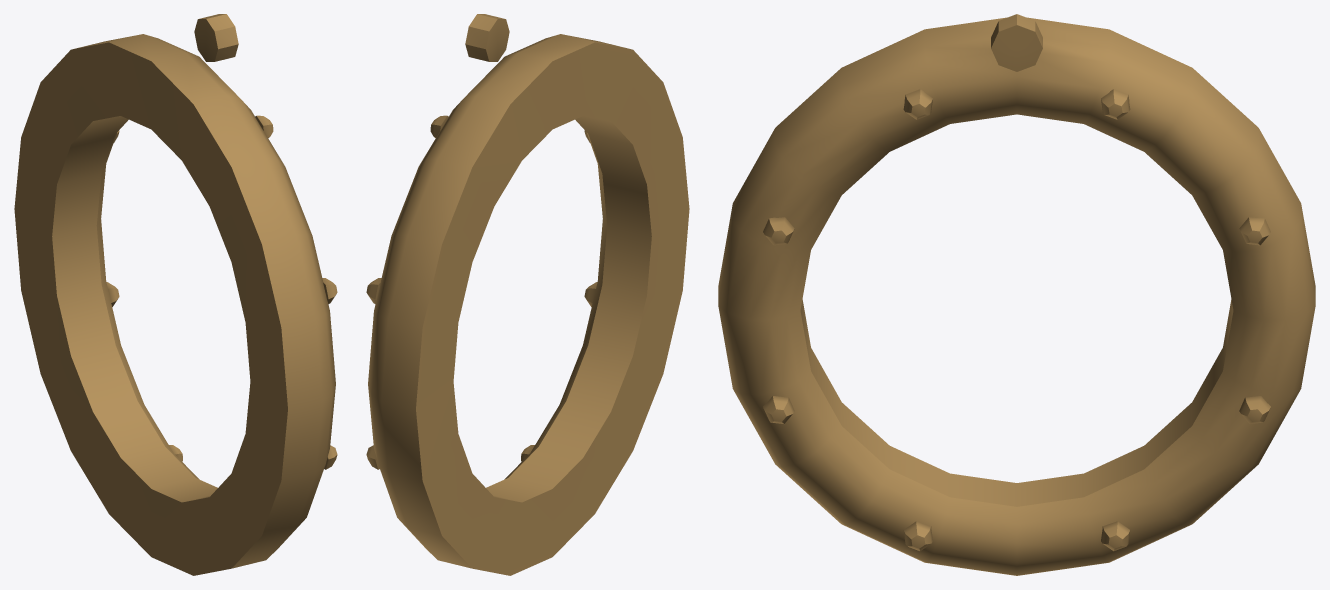
The model's file is kit-porthole.glb.
The picture shows the model from 3 angles, left to right: view 1: azimuth 30°, elevation 25°; view 2: azimuth 150°, elevation 25°; view 3: azimuth 270°, elevation 25°; orthographic projection. The views are drawn at different scales.
Visible parts, largest first — view 1: rim; view 2: rim; view 3: rim.
Boxes of the visible parts, x1=… form: rim: x1=14, y1=14, x2=337, y2=575; rim: x1=366, y1=14, x2=689, y2=575; rim: x1=718, y1=14, x2=1315, y2=575.
Bounding box in the file's own units: 0.044 × 0.292 × 0.276.
